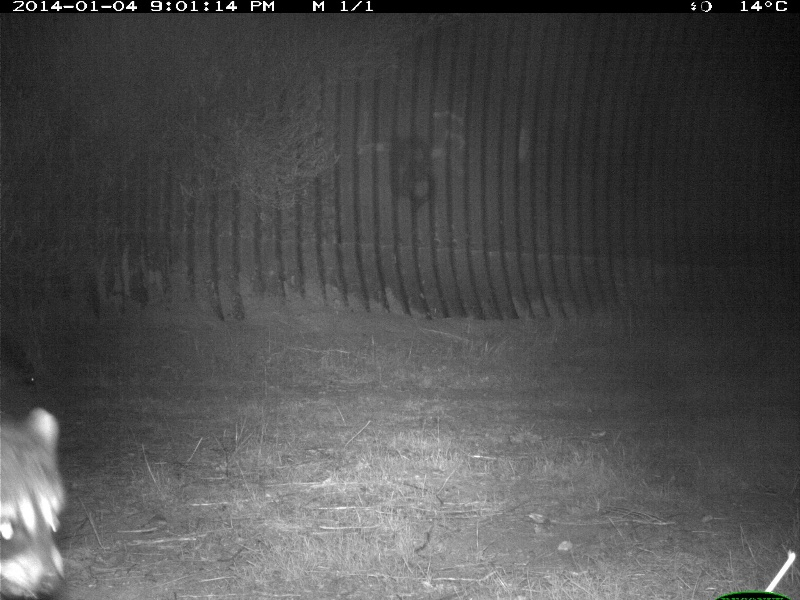raccoon: (1, 405, 76, 596)
